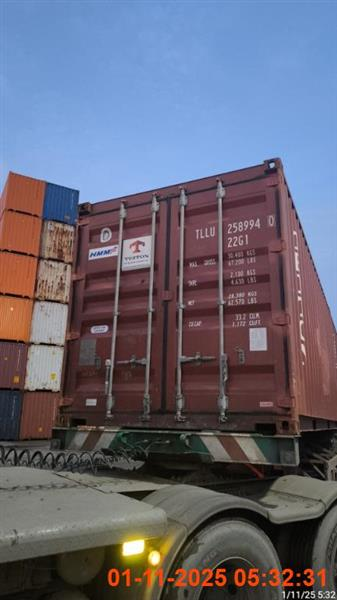broken: (0, 156, 336, 598)
